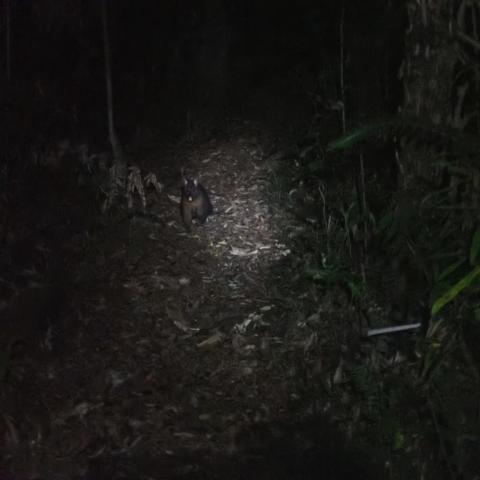small_animal: (384, 244, 434, 363), (177, 166, 214, 233)
